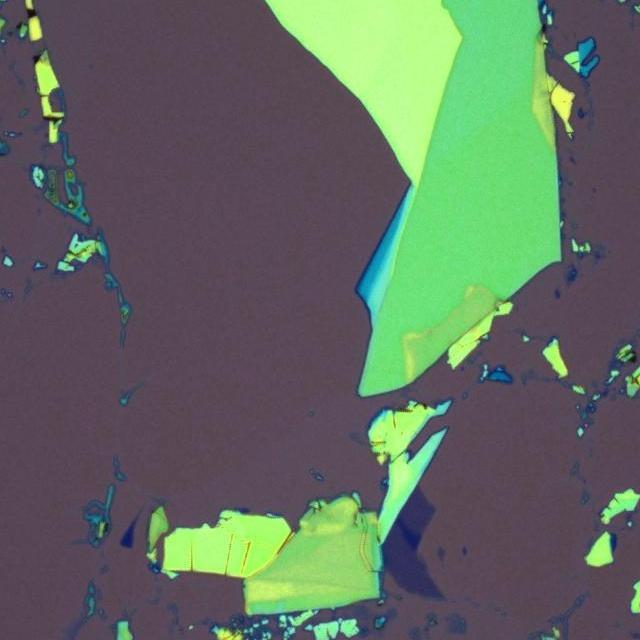monolayer-eWW4: (376, 522, 444, 598), (398, 484, 438, 536)
